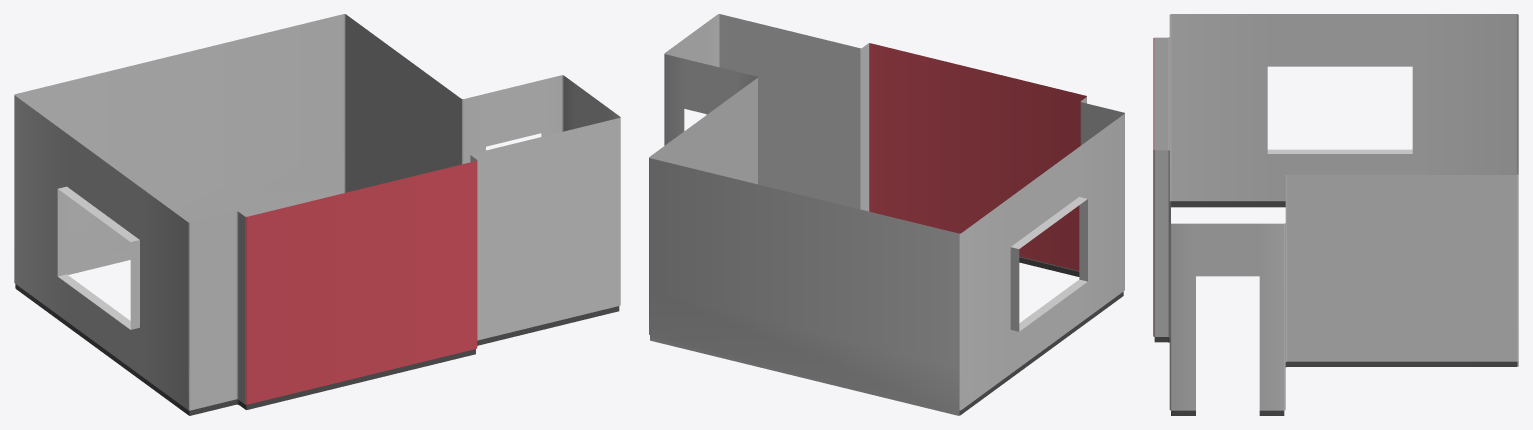
Rendered from Wall.fbx.
3 views of the same model, side by side, from view 1: azimuth 30°, elevation 25°; view 2: azimuth 150°, elevation 25°; view 3: azimuth 270°, elevation 25° (orthographic). The views are drawn at different scales.
Parts seen in each view (by area): view 1: Wall; view 2: Wall; view 3: Wall.
Boxes of the visible parts, bbox=[...] form: Wall: bbox=[14, 14, 620, 415]; Wall: bbox=[649, 14, 1124, 415]; Wall: bbox=[1153, 14, 1518, 415].
Bounding box in the file's own units: 7.99 × 3.35 × 5.76.
